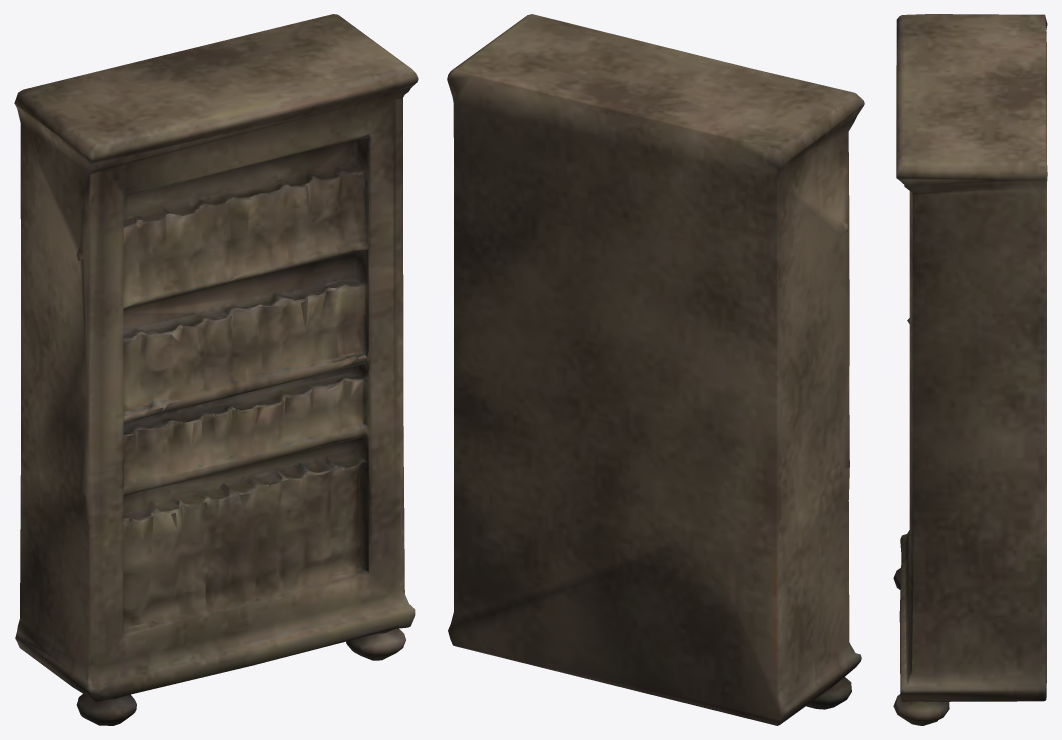
Rendered from chipped-wood-bookcase-v002.glb.
The picture shows the model from 3 angles, left to right: view 1: azimuth 30°, elevation 25°; view 2: azimuth 150°, elevation 25°; view 3: azimuth 270°, elevation 25°; orthographic projection. The views are drawn at different scales.
Parts seen in each view (by area): view 1: chipped-wood-bookcase; view 2: chipped-wood-bookcase; view 3: chipped-wood-bookcase.
Boxes of the visible parts, bbox=[...] form: chipped-wood-bookcase: bbox=[14, 14, 418, 725]; chipped-wood-bookcase: bbox=[447, 14, 864, 725]; chipped-wood-bookcase: bbox=[893, 14, 1047, 725].
Bounding box in the file's own units: 1.21 × 2.07 × 0.5085.
1 material, 1 textured.
